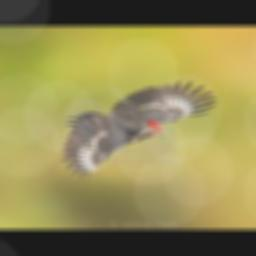Woodpecker: (60, 81, 218, 179)
